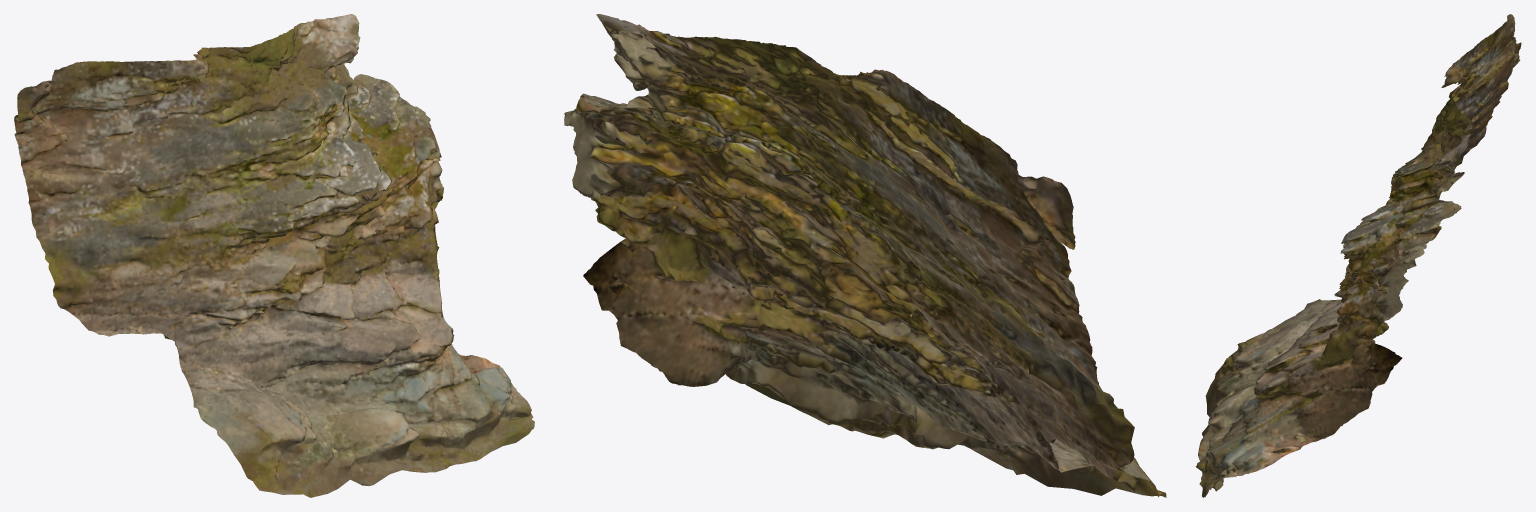
File: rock_face_02.8008874044.glb
3 views of the same model, side by side, from view 1: azimuth 30°, elevation 25°; view 2: azimuth 150°, elevation 25°; view 3: azimuth 270°, elevation 25° (orthographic). The views are drawn at different scales.
Visible parts, largest first — view 1: rock_face_02; view 2: rock_face_02; view 3: rock_face_02.
Boxes of the visible parts, x1,y1,x2,y2 form: rock_face_02: (14,14,534,497); rock_face_02: (564,14,1166,497); rock_face_02: (1195,14,1521,497).
Bounding box in the file's own units: 2.71 × 2.47 × 2.13.
Materials: 1 (1 with a texture image).
